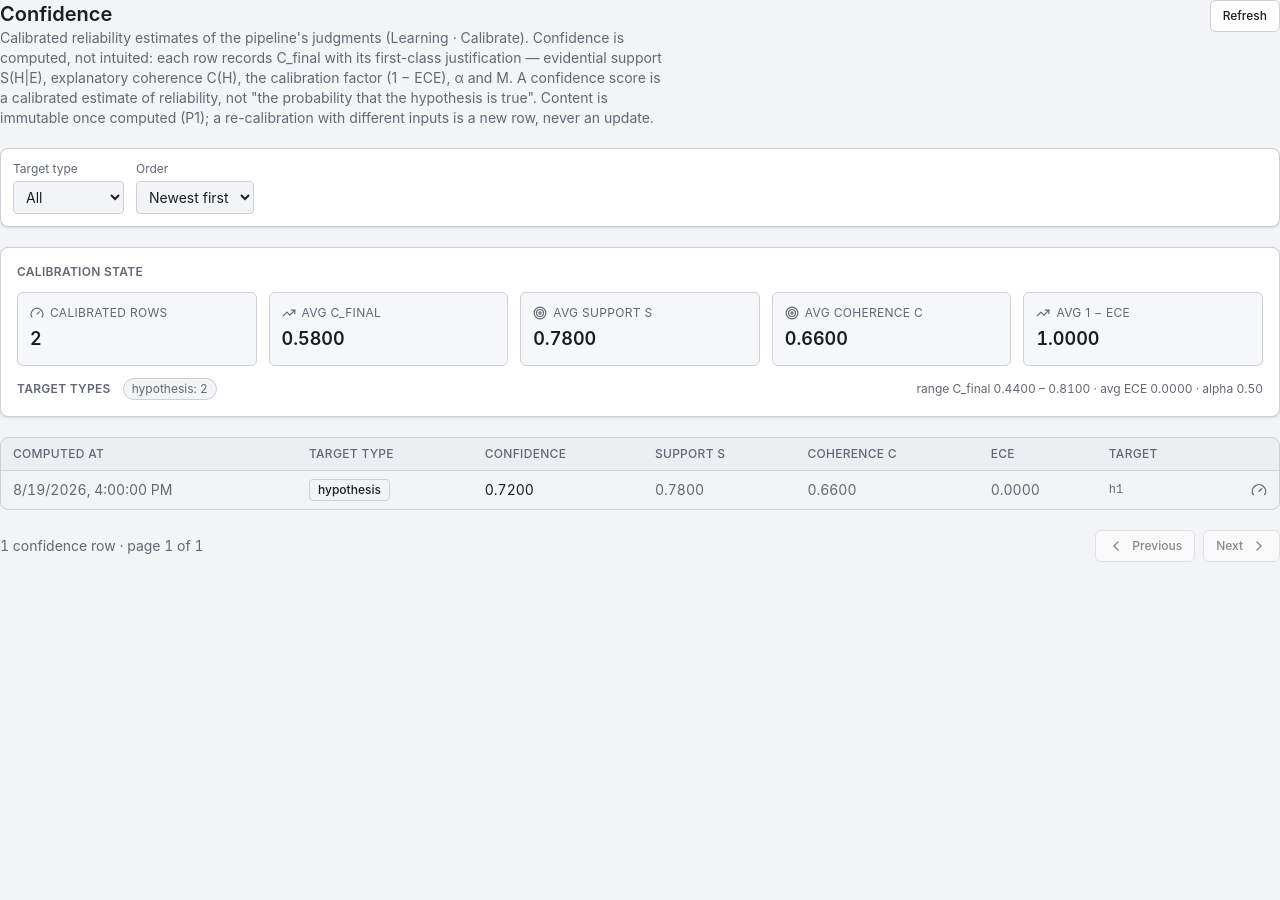
Scenario: ConfidencePage › opens the detail drawer with the judgment desglose and calibration semantics
What coordinates should you click on to do the following:
click the text "0.7200"
I would click on:
 (509, 490)
Its box is [473,470,643,509].
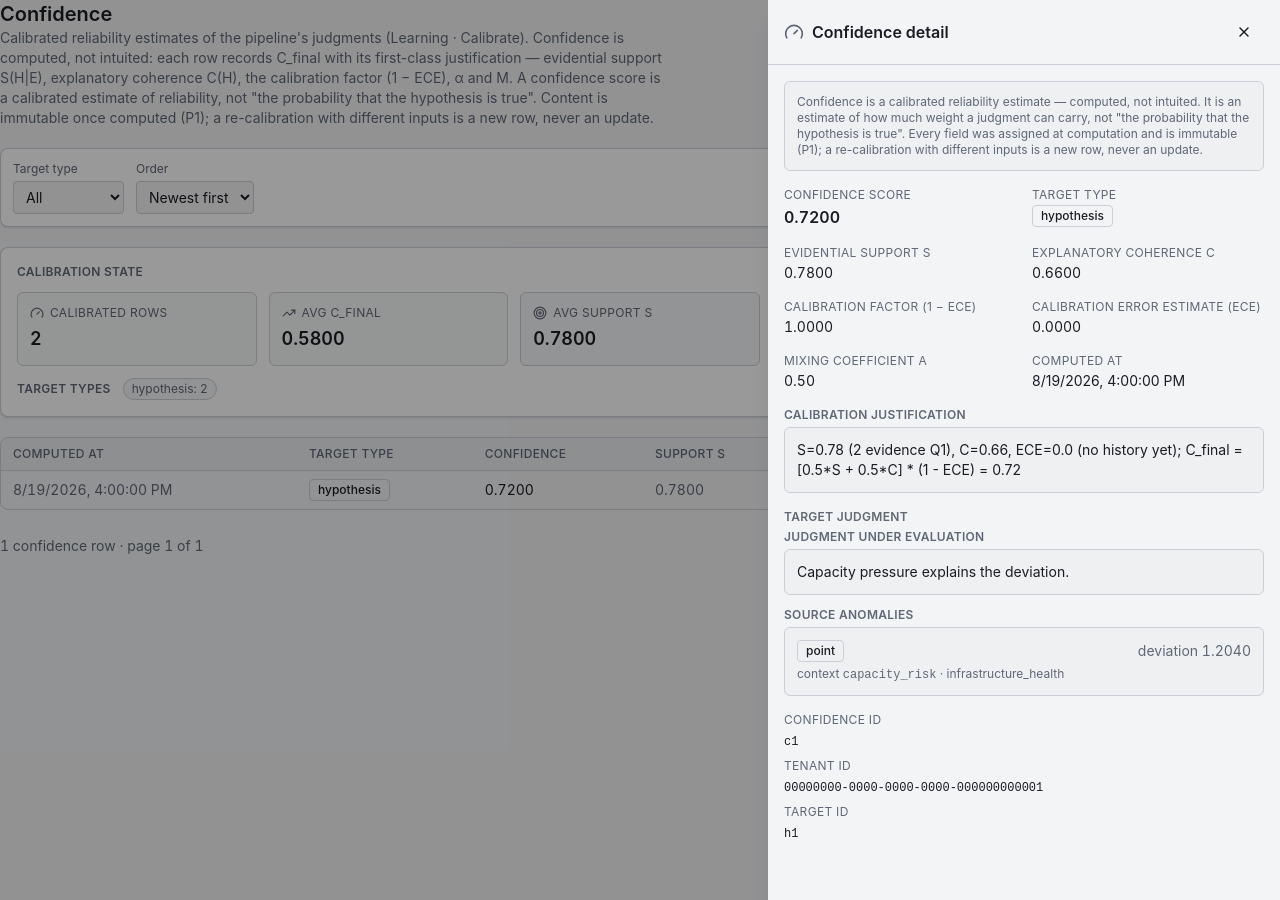
Expected: the heading "Calibration justification" is shown, [784,407,966,422]
Expected: the text "S=0.78 (2 evidence Q1), C=0.66, ECE=0.0 (no history yet); C_final = [0.5*S + 0.5*C] * (1 - ECE) = 0.72" is shown, [797,441,1243,478]
Expected: the text "Capacity pressure explains the deviation." is shown, [784,549,1264,595]
